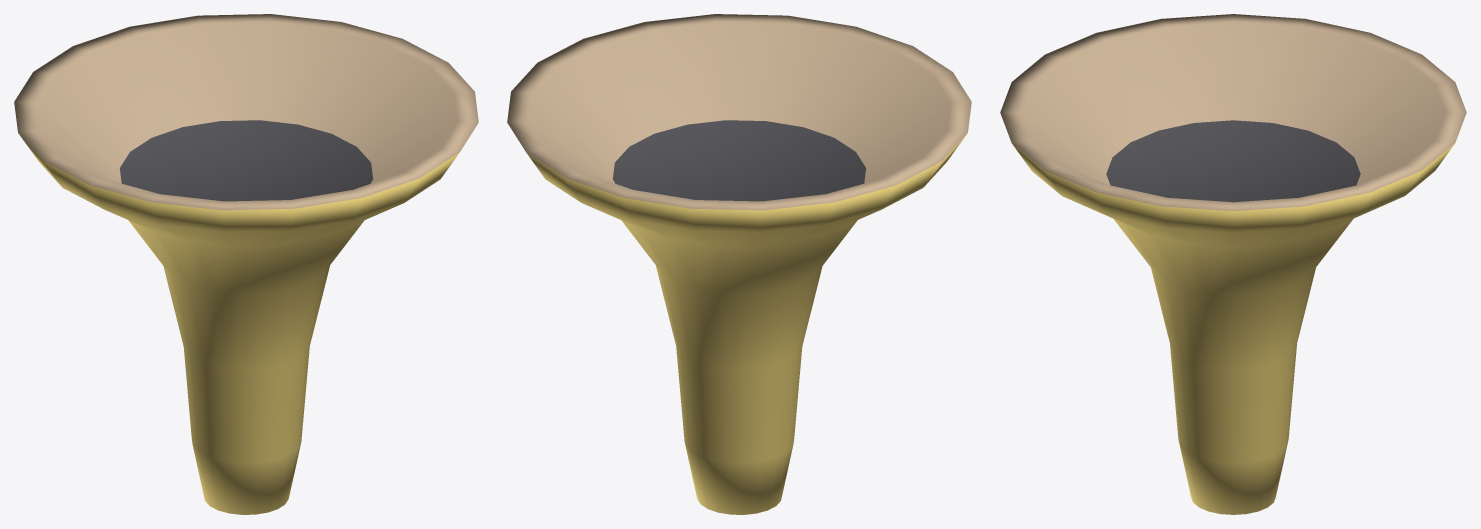
Rendered from horn.glb.
The picture shows the model from 3 angles, left to right: view 1: azimuth 30°, elevation 25°; view 2: azimuth 150°, elevation 25°; view 3: azimuth 270°, elevation 25°; orthographic projection.
Parts seen in each view (by area): view 1: horn; view 2: horn; view 3: horn.
Part boxes in pixels (left/top/right/bottom): horn: left=14, top=14, right=478, bottom=514; horn: left=507, top=14, right=971, bottom=514; horn: left=1000, top=14, right=1466, bottom=514.
Bounding box in the file's own units: 1.1 × 1 × 1.1.
